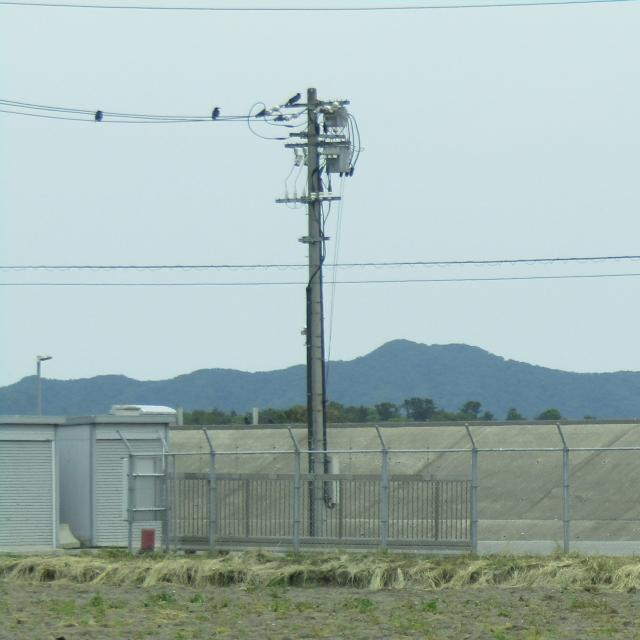pole: (245, 78, 381, 540)
